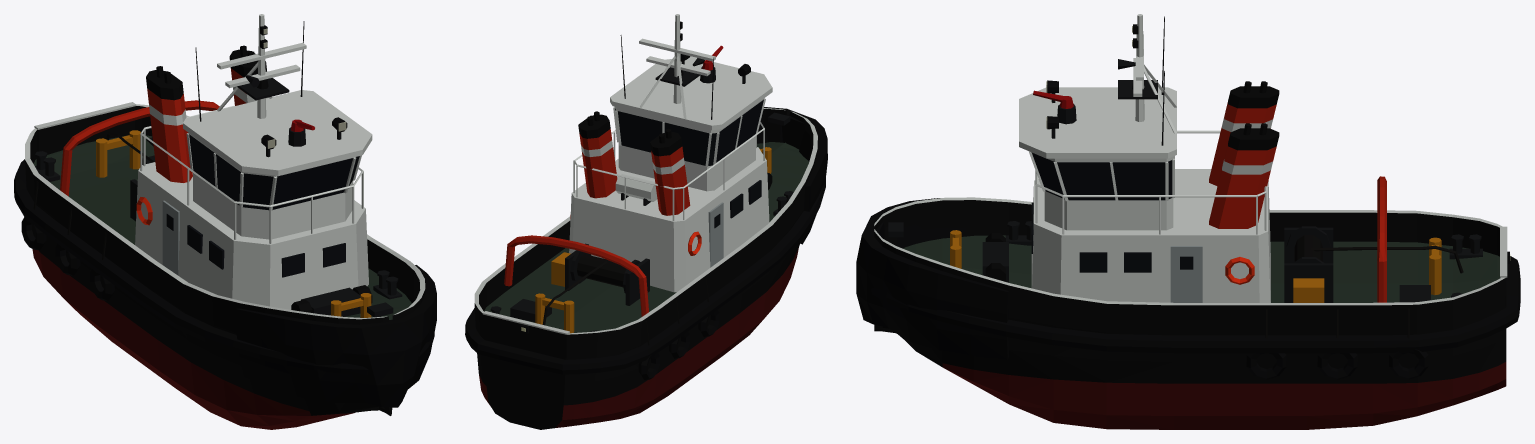
The model's file is tug_mid.glb.
The picture shows the model from 3 angles, left to right: view 1: azimuth 30°, elevation 25°; view 2: azimuth 150°, elevation 25°; view 3: azimuth 270°, elevation 25°; orthographic projection. The views are drawn at different scales.
Parts seen in each view (by area): view 1: fixed, house, hull, glass, stack, window; view 2: fixed, house, hull, stack, glass, window; view 3: fixed, hull, house, stack, glass, window.
Part boxes in pixels (box(x1,y1,x2,y2)): fixed: box(14, 21, 436, 429); house: box(135, 14, 372, 309); hull: box(25, 106, 425, 415); glass: box(189, 134, 359, 210); stack: box(60, 68, 246, 196); window: box(166, 214, 345, 277); fixed: box(465, 21, 827, 427); house: box(569, 14, 772, 292); hull: box(474, 108, 817, 429); stack: box(504, 129, 690, 316); glass: box(615, 99, 763, 165); window: box(714, 180, 761, 228); fixed: box(856, 16, 1520, 429); hull: box(874, 200, 1506, 383); house: box(1019, 14, 1270, 302); stack: box(1209, 102, 1386, 302); glass: box(1031, 152, 1172, 200); window: box(1031, 202, 1193, 272).
Size of the model in its own units: 5.57 by 9.75 by 14.96.
